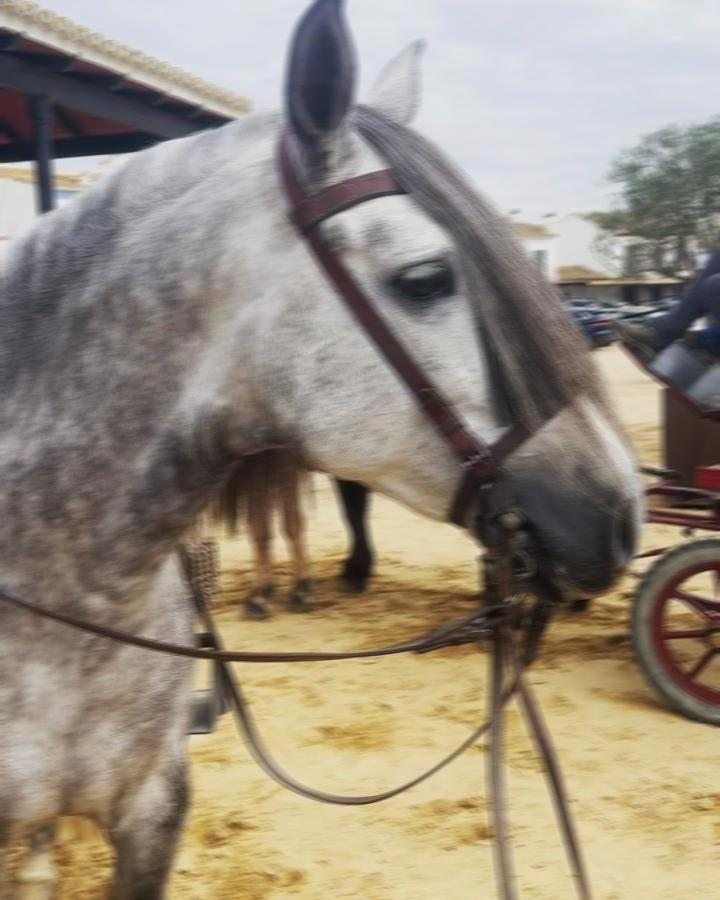horse: (0, 0, 646, 898)
